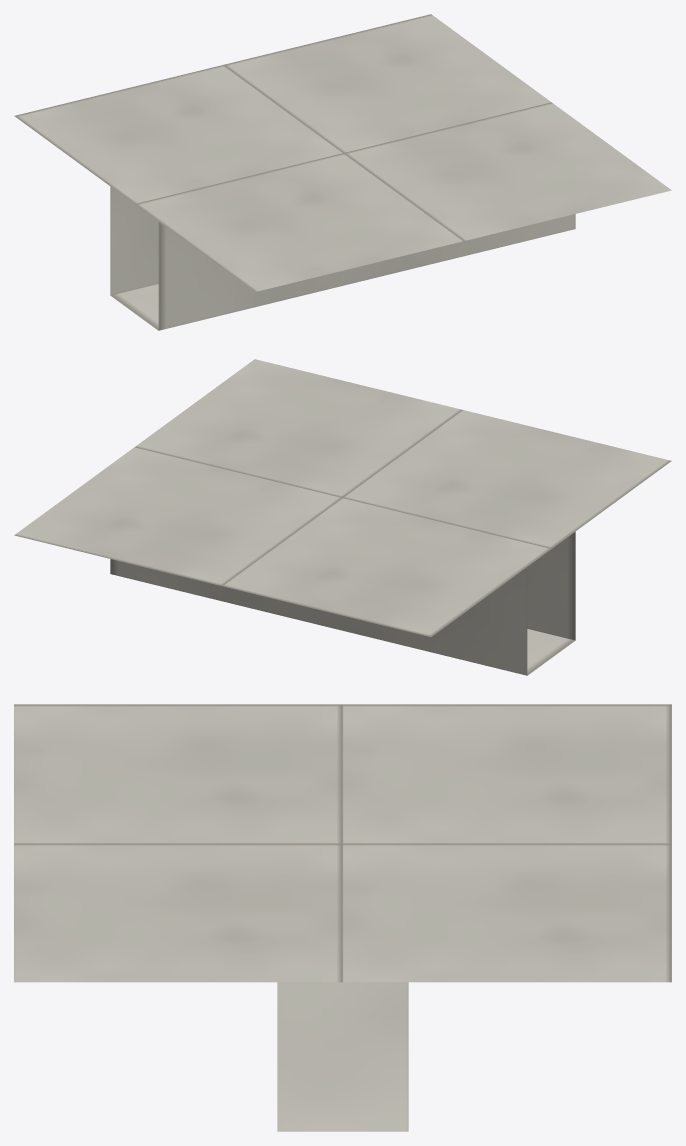
Rendered from ceiling_prison_beam.fbx.
The picture shows the model from 3 angles, top to bottom: view 1: azimuth 30°, elevation 25°; view 2: azimuth 150°, elevation 25°; view 3: azimuth 270°, elevation 25°; orthographic projection. The views are drawn at different scales.
Visible parts, largest first — view 1: ceiling_prison_beam; view 2: ceiling_prison_beam; view 3: ceiling_prison_beam.
Part boxes in pixels (bbox=[...]): ceiling_prison_beam: bbox=[14, 14, 671, 330]; ceiling_prison_beam: bbox=[14, 359, 671, 675]; ceiling_prison_beam: bbox=[14, 704, 671, 1131].
Bounding box in the file's own units: 2 × 0.5 × 2.
Materials: 1 (1 with a texture image).
